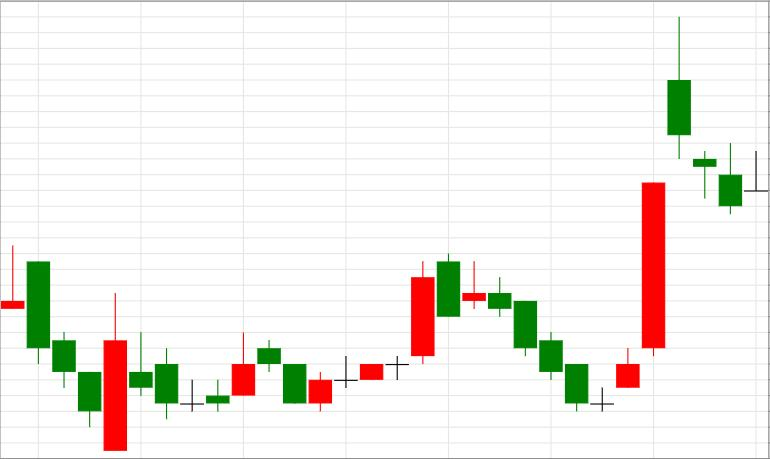bullish_engulfing_rise: (1, 244, 127, 451)
morning_star_rise: (437, 254, 640, 413)
